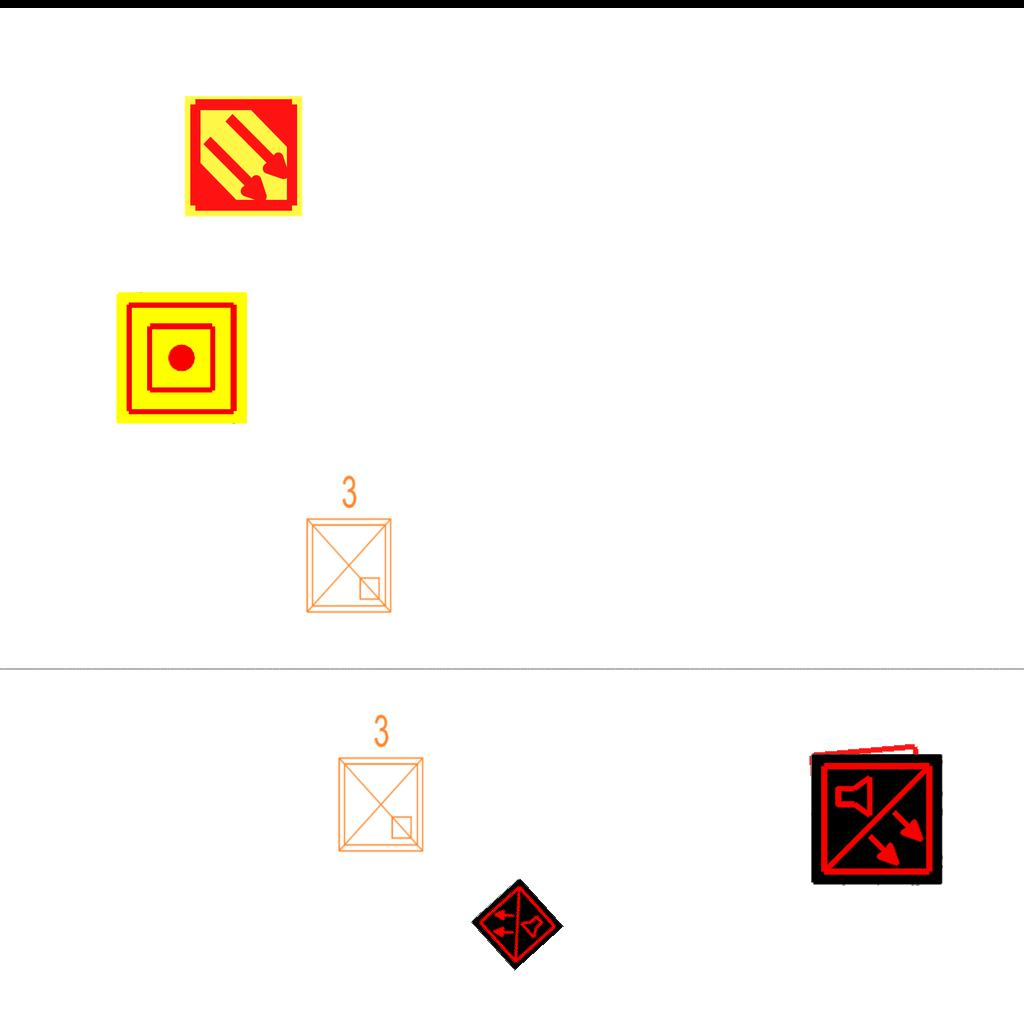ASR_Ansaugrauchmelder: (181, 94, 306, 219)
Einbaudownlights_LED_Konferenzraeume: (327, 709, 431, 859), (295, 470, 399, 620)
NAM-Nichtautomatischer_Melder: (116, 292, 248, 424)
OKW_Multisensormelder_(Kombination_optischer_Rauch-Kahlenmonoxid_Waerme-Melder): (811, 754, 943, 886), (470, 877, 564, 971)
RMO_Rauchmelder_optischer: (806, 741, 929, 864)
